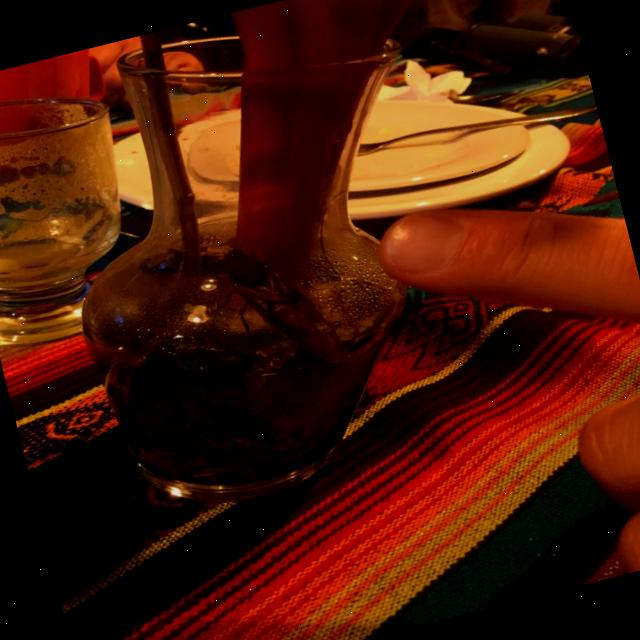Alive-Female-Alate: (208, 224, 350, 388)
